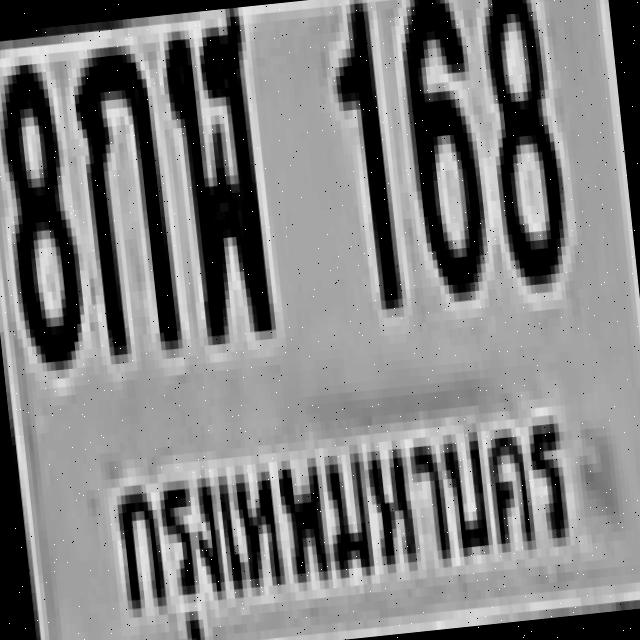1: (323, 0, 405, 315)
10GorGai: (64, 34, 185, 364)
51LorChula: (156, 6, 278, 346)
6: (391, 0, 492, 301)
8: (0, 52, 91, 372), (476, 0, 575, 289)
Bangkok: (89, 372, 595, 640)
